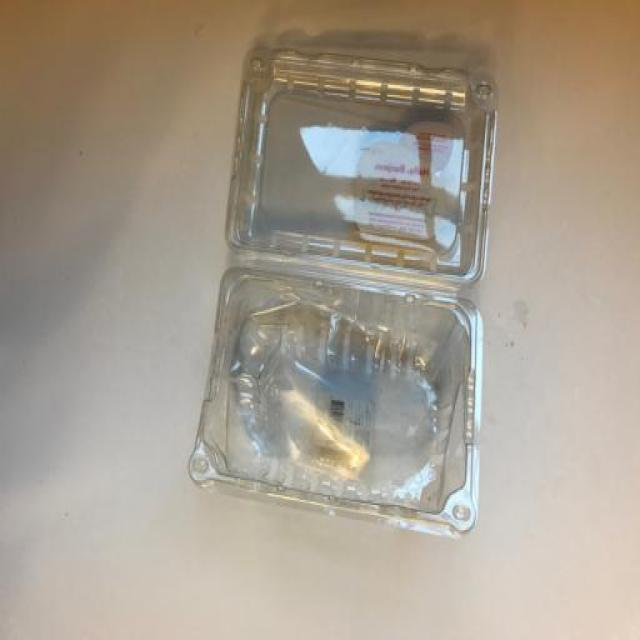Plastic: (186, 50, 495, 542)
